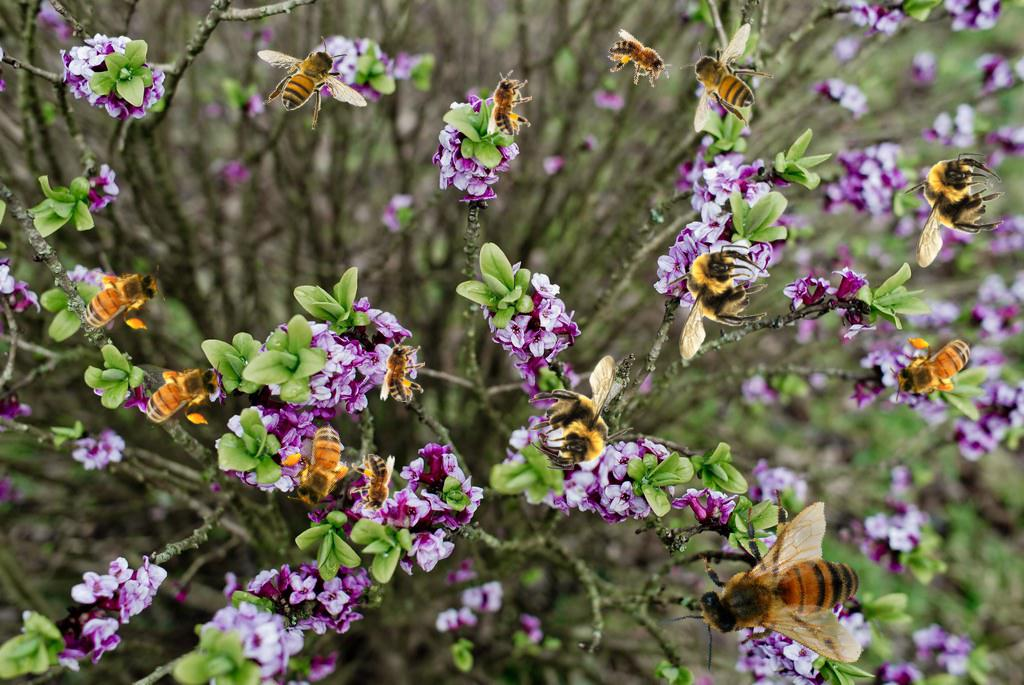Bee: (646, 463, 905, 685), (264, 408, 380, 523), (527, 355, 634, 470), (898, 153, 1005, 268), (661, 245, 768, 360), (680, 22, 774, 133), (257, 36, 368, 130), (133, 360, 226, 428), (72, 265, 165, 333), (890, 334, 983, 402), (600, 27, 680, 96), (350, 454, 395, 520), (487, 70, 532, 136), (380, 336, 425, 402)
